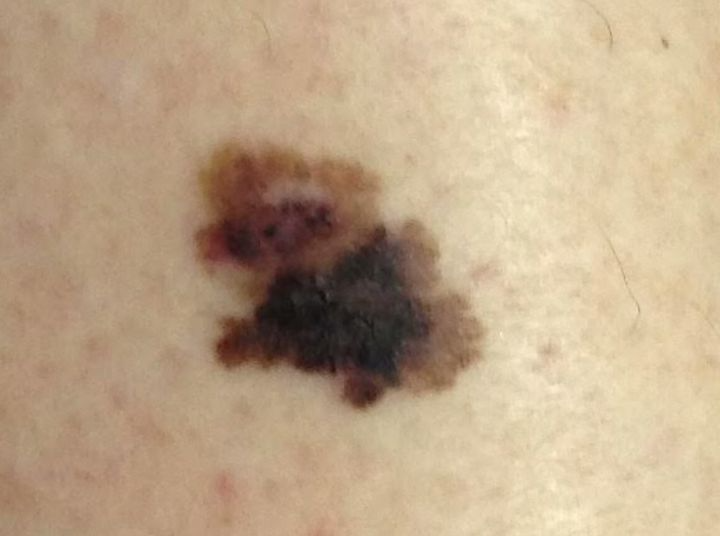Melanoma: (192, 139, 484, 412)
